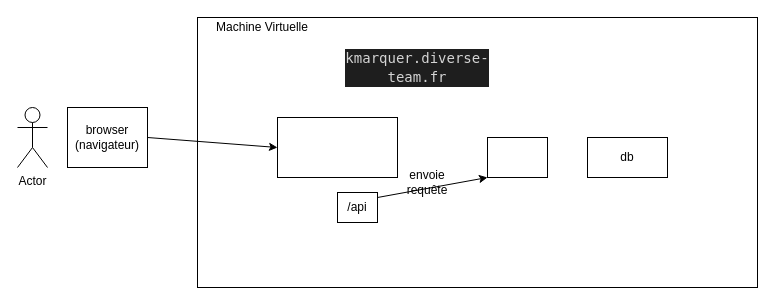
This 775x305 diagram has some shape labels left out. Each missing label, with the centre of its shape:
Back: the point at 517,157
front: the point at 337,147
